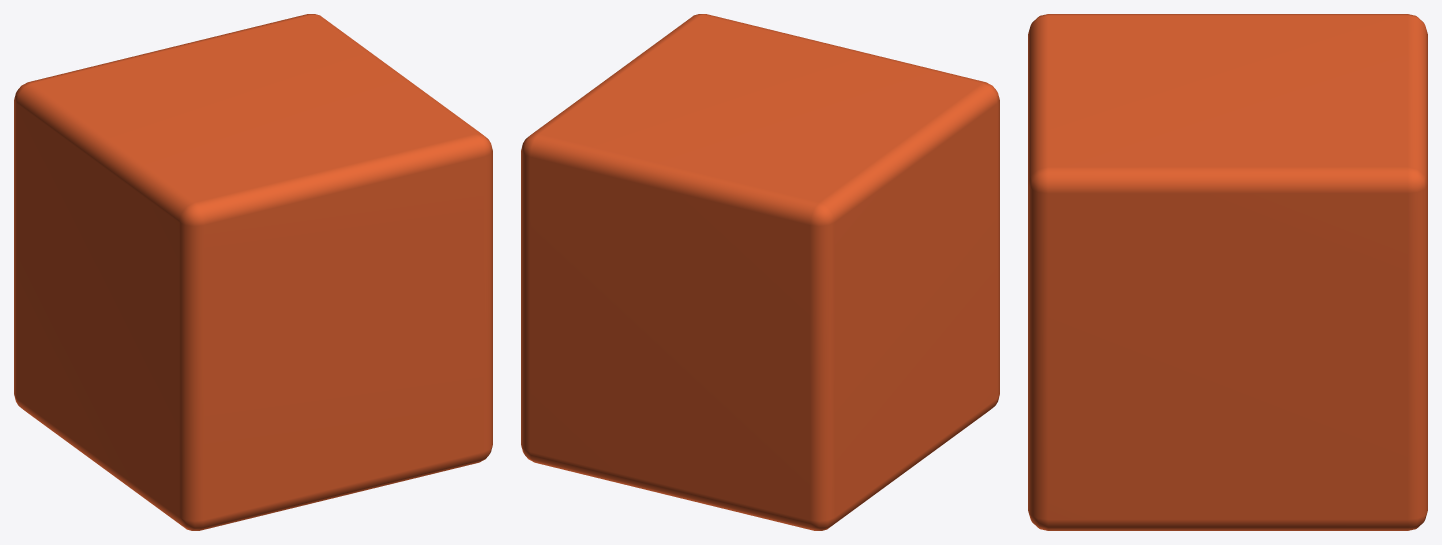
3 renders of one model, left to right at view 1: azimuth 30°, elevation 25°; view 2: azimuth 150°, elevation 25°; view 3: azimuth 270°, elevation 25°, orthographic. The views are drawn at different scales.
Visible parts, largest first — view 1: Box_01; view 2: Box_01; view 3: Box_01.
Boxes of the visible parts, x1=… form: Box_01: x1=14, y1=14, x2=492, y2=530; Box_01: x1=521, y1=14, x2=999, y2=530; Box_01: x1=1028, y1=14, x2=1427, y2=530.
Size of the model in its own units: 28.45 by 28.6 by 28.6.
